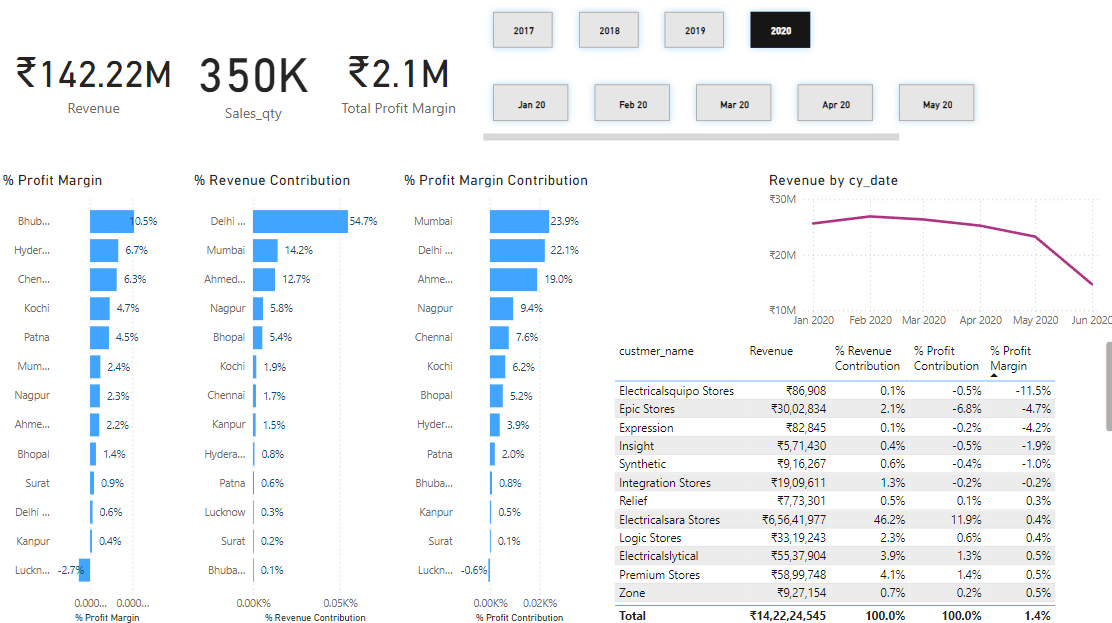

This screenshot's page, from the dashboard's own definition file:
{"tool":"powerbi","page":{"name":"Profit Analysis","canvas":[1280,720],"ordinal":1},"visuals":[{"type":"card","fields":{"Values":["Basemeasure.Revenue"]},"box":[0,1.2,218.8,183.8],"z":0},{"type":"card","fields":{"Values":["Basemeasure.Sales_qty"]},"box":[213.8,0,155,185],"z":1000},{"type":"advancedSlicerVisual","title":"Year","fields":{"Values":["sales date.year"]},"box":[550,0,397.5,73.8],"z":2000},{"type":"barChart","title":"% Profit Margin","fields":{"Y":["Basemeasure.% Profit Margin"],"Category":["sales markets.markets_name"]},"box":[0,197.5,218.8,522.5],"z":3000},{"type":"advancedSlicerVisual","title":"Month","fields":{"Values":["sales date.cy_date"]},"box":[550,82.5,582.5,87.5],"z":4000},{"type":"tableEx","title":"Top 5 Customers","fields":{"Values":["sales customers.custmer_name","Basemeasure.Revenue","Basemeasure.% Revenue Contribution","Basemeasure.% Profit Contribution","Basemeasure.% Profit Margin"]},"box":[698.8,387.5,581.2,332.5],"z":5000},{"type":"lineChart","fields":{"Y":["Basemeasure.Revenue"],"Category":["sales date.cy_date"]},"box":[876.2,197.5,403.8,190],"z":7000},{"type":"card","fields":{"Values":["Basemeasure.Total Profit Margin"]},"box":[368.8,0,178.8,185],"z":8000},{"type":"barChart","title":"% Revenue Contribution","fields":{"Category":["sales markets.markets_name"],"Y":["Basemeasure.% Revenue Contribution"]},"box":[218.8,197.5,240,522.5],"z":9000},{"type":"barChart","title":"% Profit Margin Contribution","fields":{"Category":["sales markets.markets_name"],"Y":["Basemeasure.% Profit Contribution"]},"box":[458.8,197.5,230,522.5],"z":10000}]}

Visuals, with their boxes in screenshot pixels (x1, y1, x2, y2), scaled from the page's 1280x720 canvas onto the 1112x623 screenshot:
card - Basemeasure.Revenue: locate(0, 1, 190, 160)
card - Basemeasure.Sales_qty: locate(186, 0, 320, 160)
"Year" advancedSlicerVisual: locate(478, 0, 823, 64)
"% Profit Margin" barChart: locate(0, 171, 190, 622)
"Month" advancedSlicerVisual: locate(478, 71, 984, 147)
"Top 5 Customers" tableEx: locate(607, 335, 1111, 622)
lineChart - Basemeasure.Revenue x sales date.cy_date: locate(761, 171, 1111, 335)
card - Basemeasure.Total Profit Margin: locate(320, 0, 476, 160)
"% Revenue Contribution" barChart: locate(190, 171, 399, 622)
"% Profit Margin Contribution" barChart: locate(399, 171, 598, 622)
